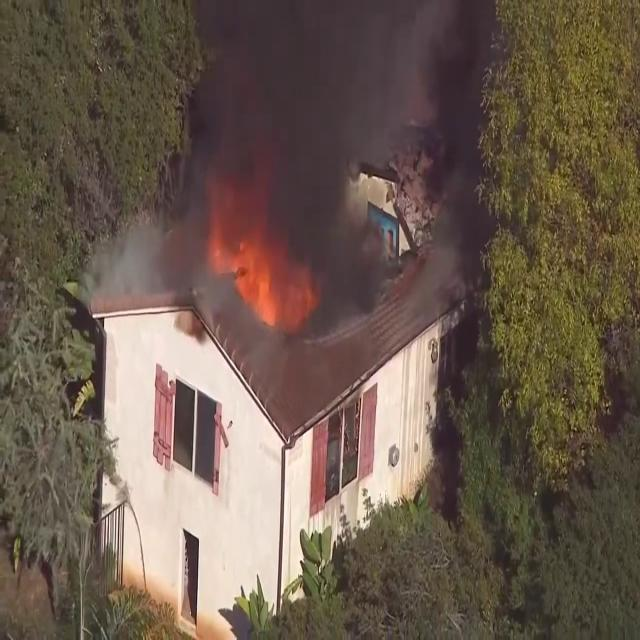Fire: (211, 214, 317, 330)
Smoke: (130, 0, 484, 327)
